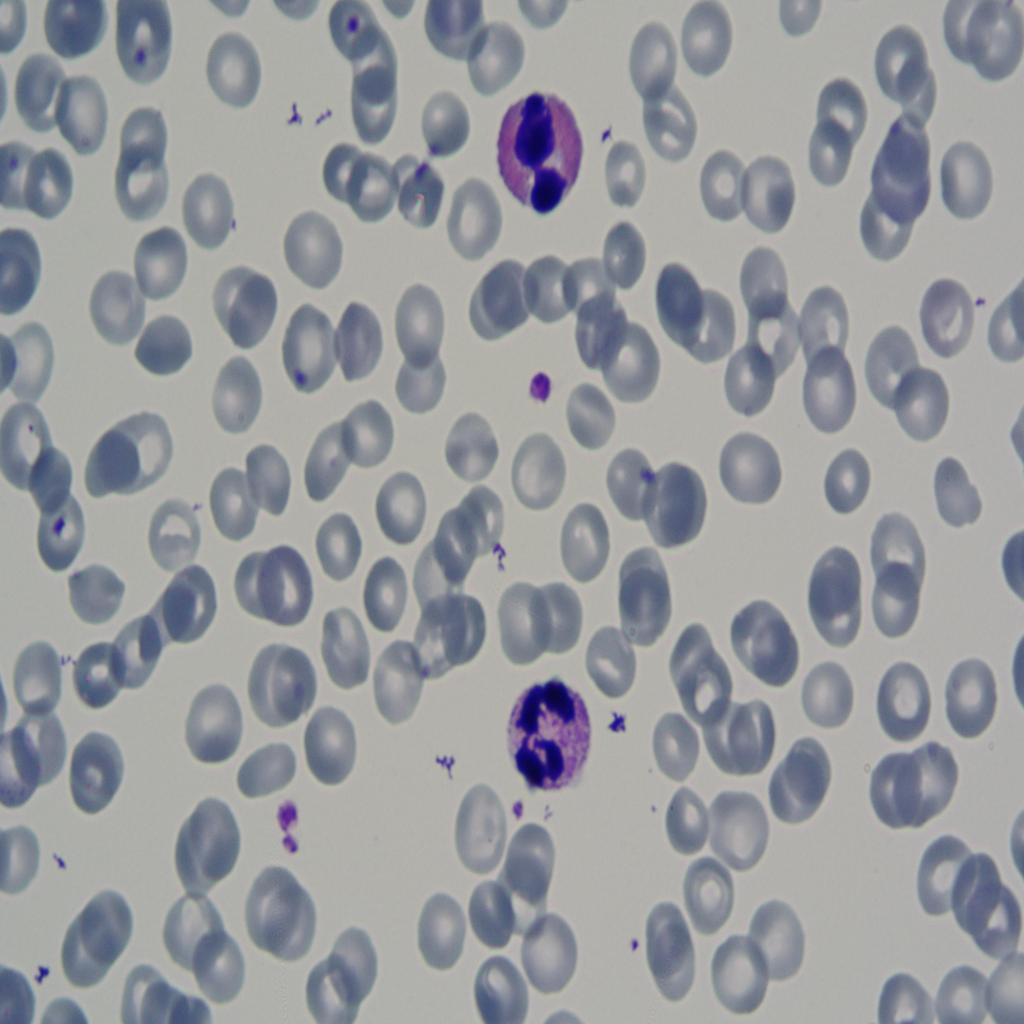Eosinofil: (496, 85, 588, 221)
Neutrofil: (498, 666, 601, 794)
Platelet: (265, 791, 306, 837), (525, 361, 556, 409), (601, 698, 629, 747), (46, 508, 73, 550), (285, 356, 307, 394), (129, 45, 156, 74), (340, 3, 362, 36), (283, 832, 305, 862), (511, 790, 525, 823)
